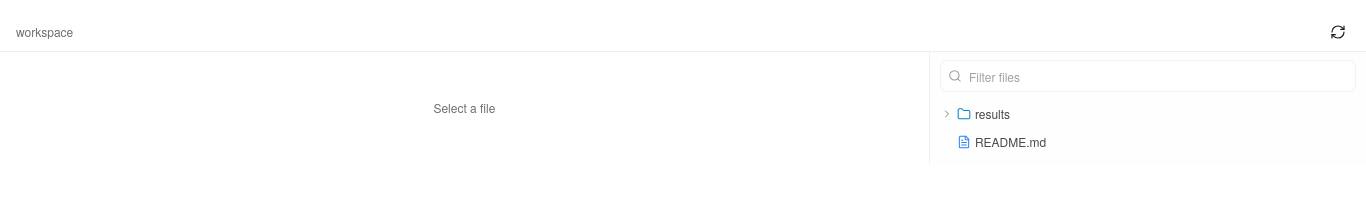
it: WorkspacePanel › keeps the root tree visible when a child directory fails
The image size is (1366, 205).
Click the button "results".
click(993, 114)  # box [936,100,1360,128]
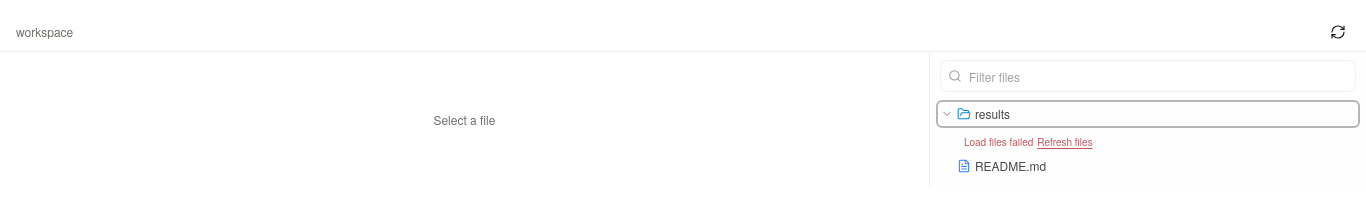
Check: the button "README.md" is shown, box [936,152,1360,180]
Check: the text "Load files failed" is shown, box [964,135,1033,150]
